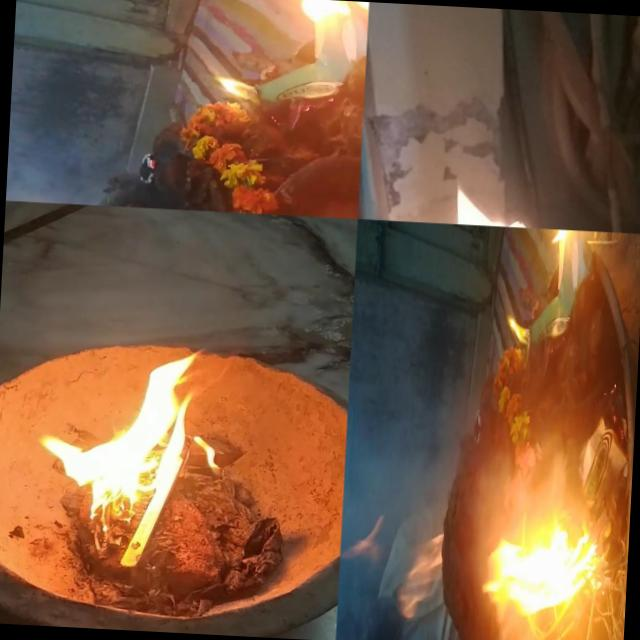fire: (46, 337, 212, 552), (382, 366, 426, 495), (460, 153, 524, 230), (410, 224, 434, 340), (376, 587, 416, 640), (481, 607, 497, 640)
smoke: (416, 223, 482, 564), (10, 0, 78, 120), (412, 589, 451, 640), (336, 611, 378, 640)
